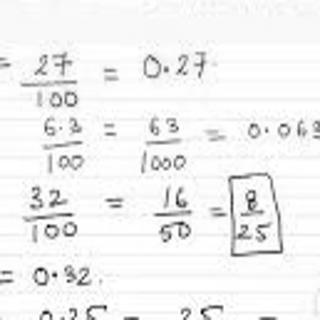.: (48, 265, 62, 280), (262, 123, 275, 136), (162, 62, 172, 76), (57, 123, 68, 133)
